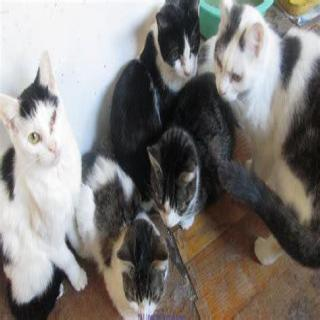cat: (1, 50, 68, 177), (215, 6, 268, 107), (157, 5, 203, 81)
